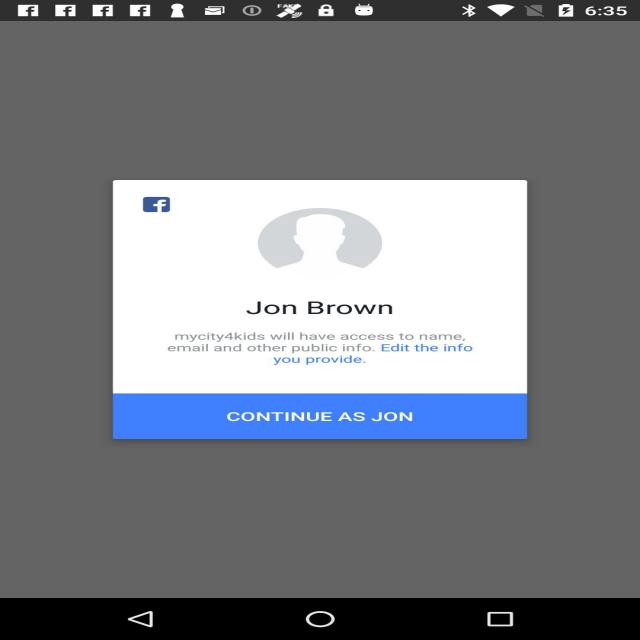button: (106, 393, 544, 445)
icon: (219, 198, 433, 286), (132, 191, 190, 216)
text: (149, 292, 497, 377)
